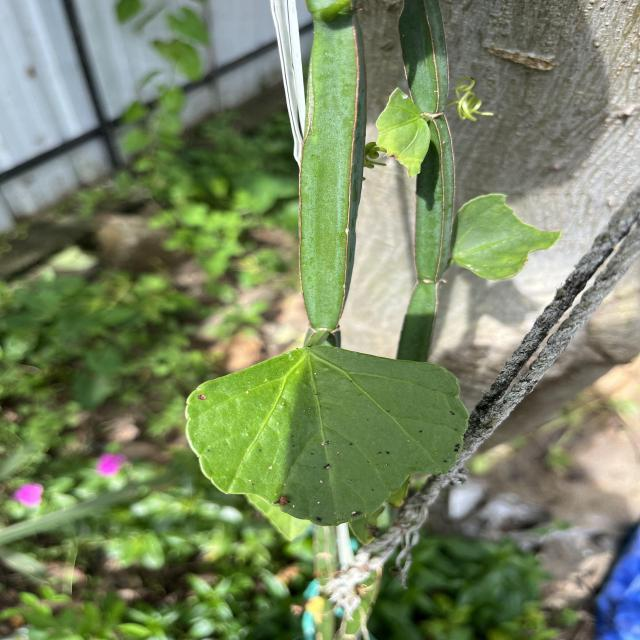Cissus quadrangularis: (180, 343, 473, 529)
